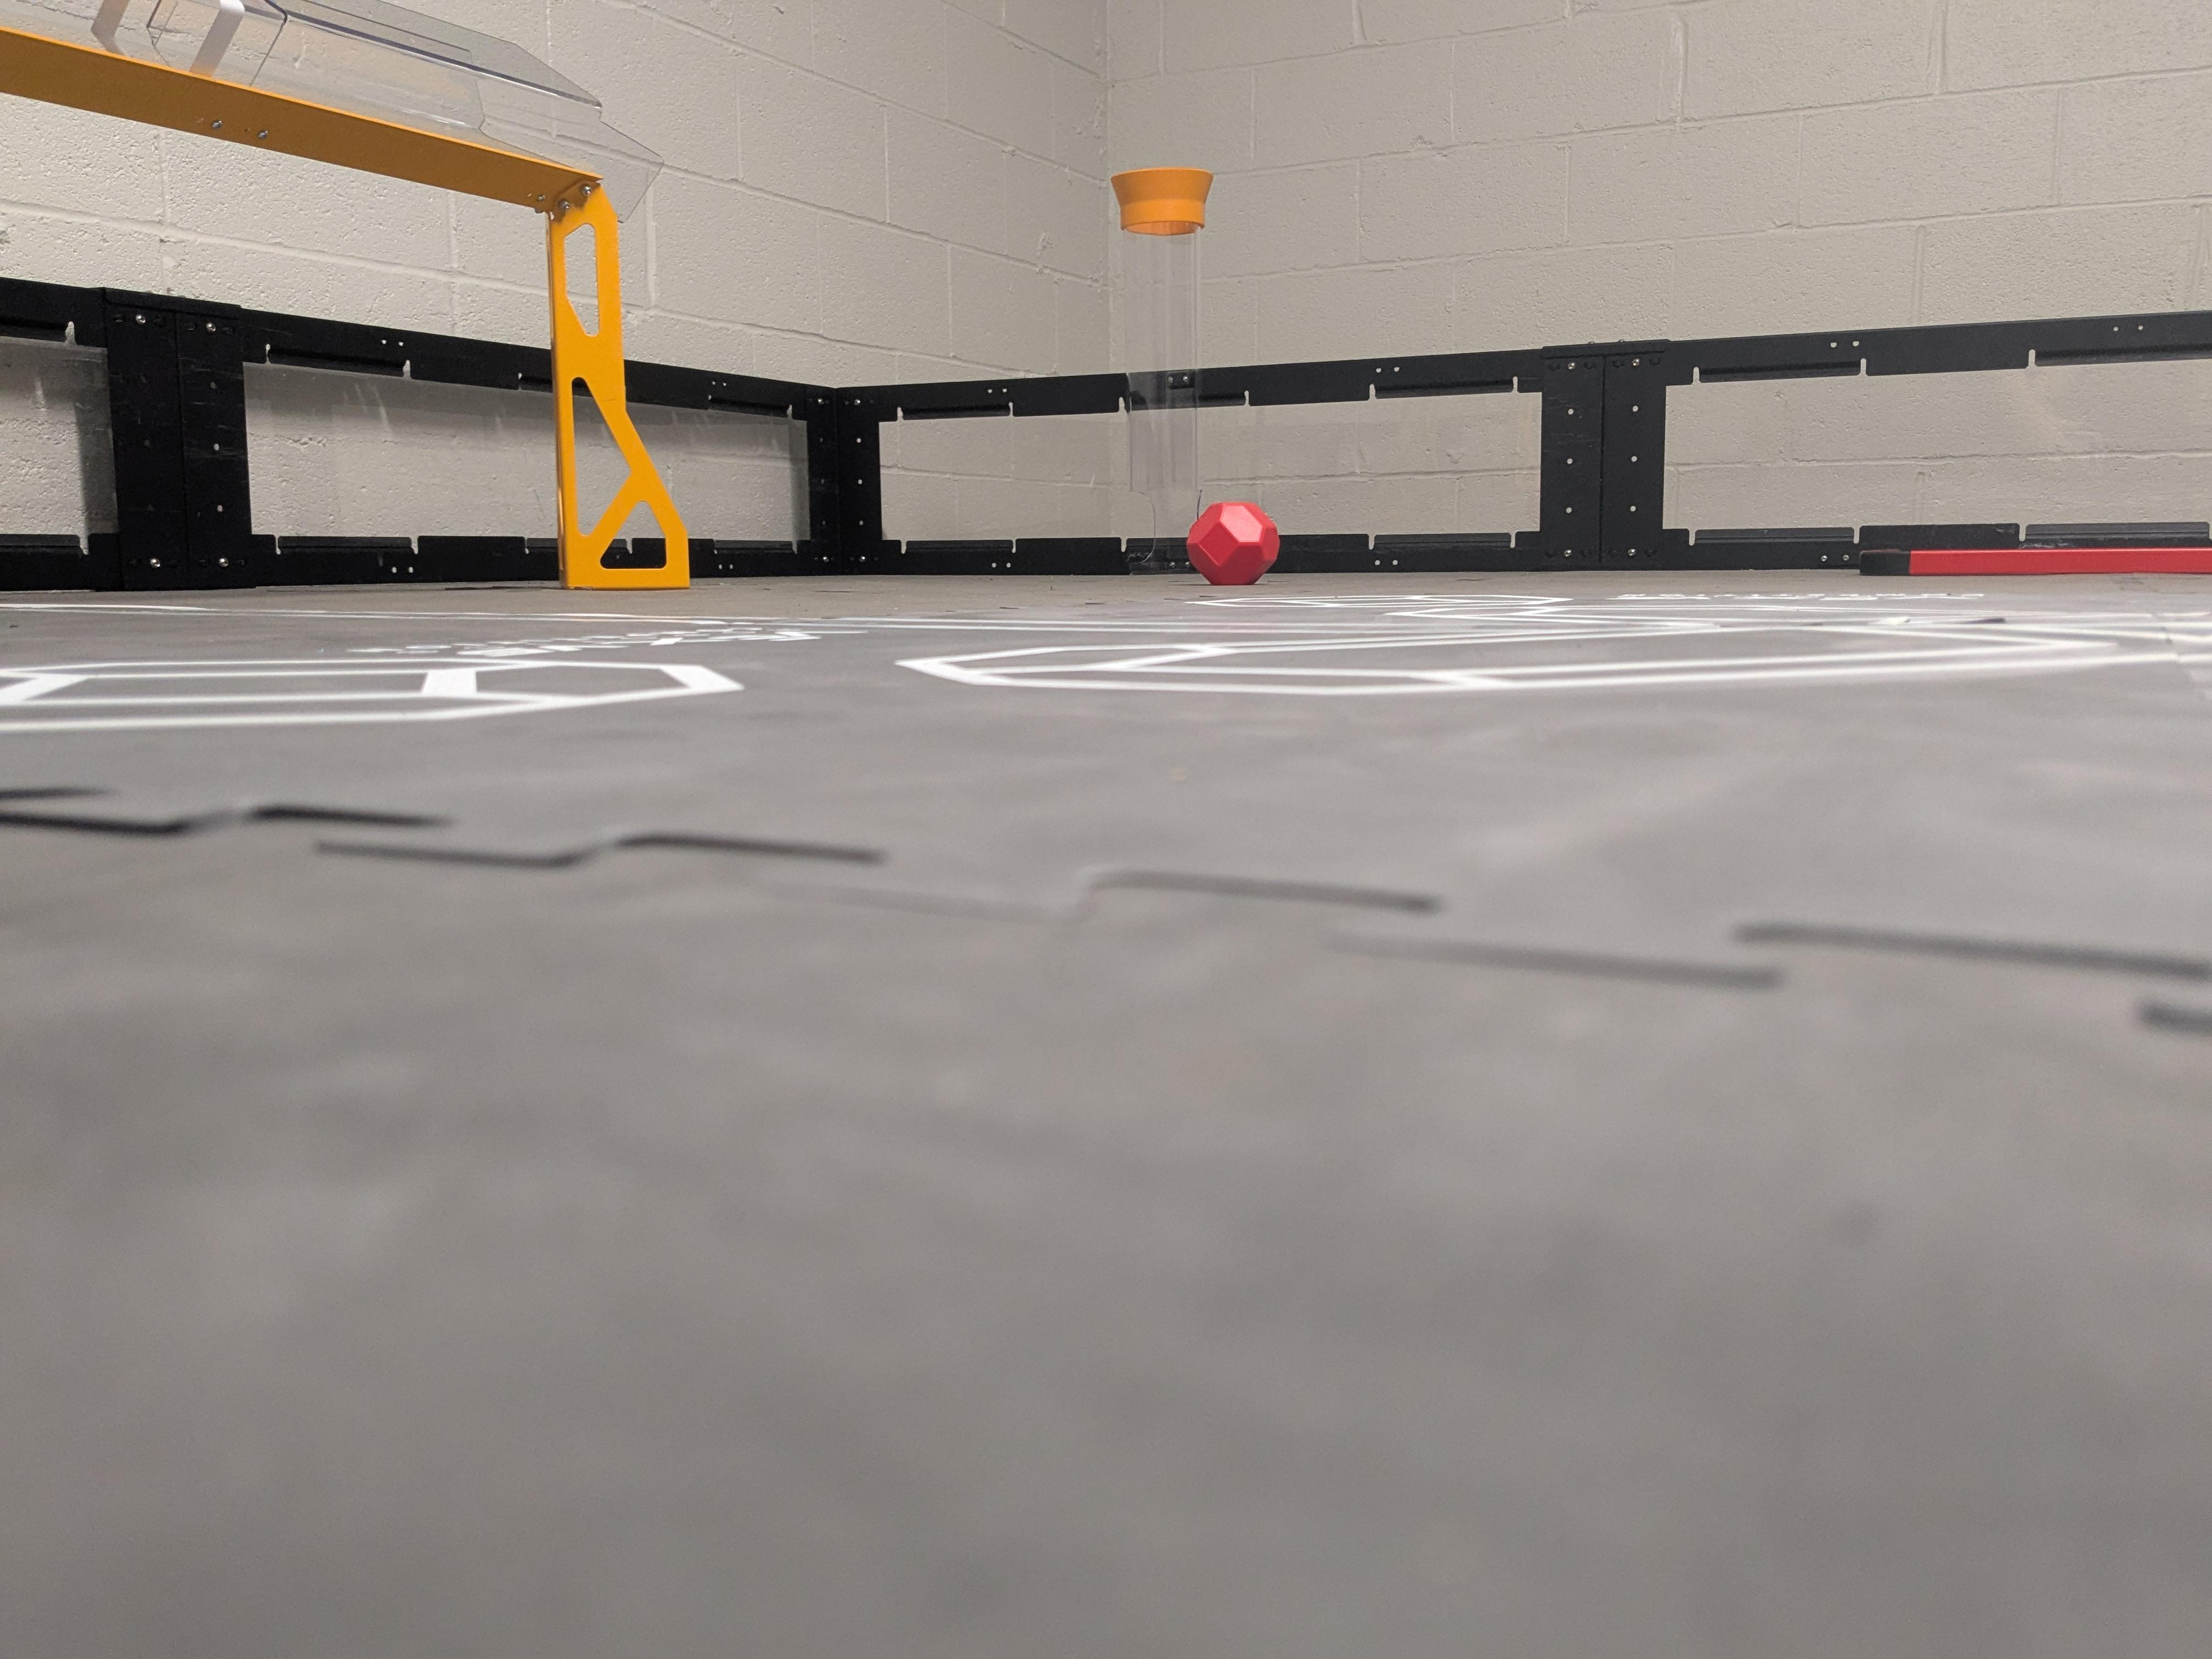Vex-Pieces-RED: (1186, 502, 1280, 584)
